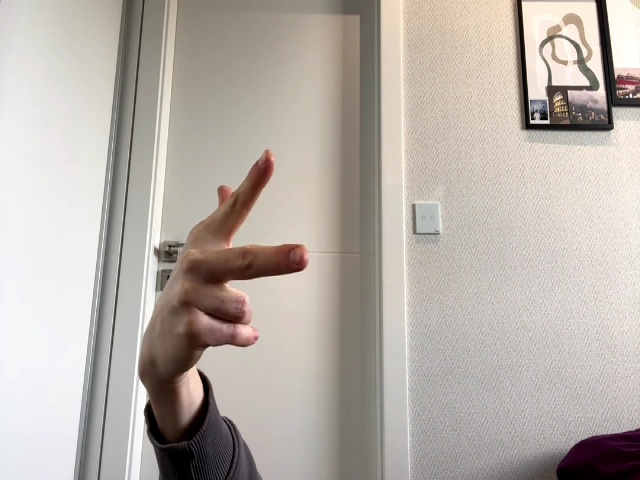K: (147, 150, 308, 379)
